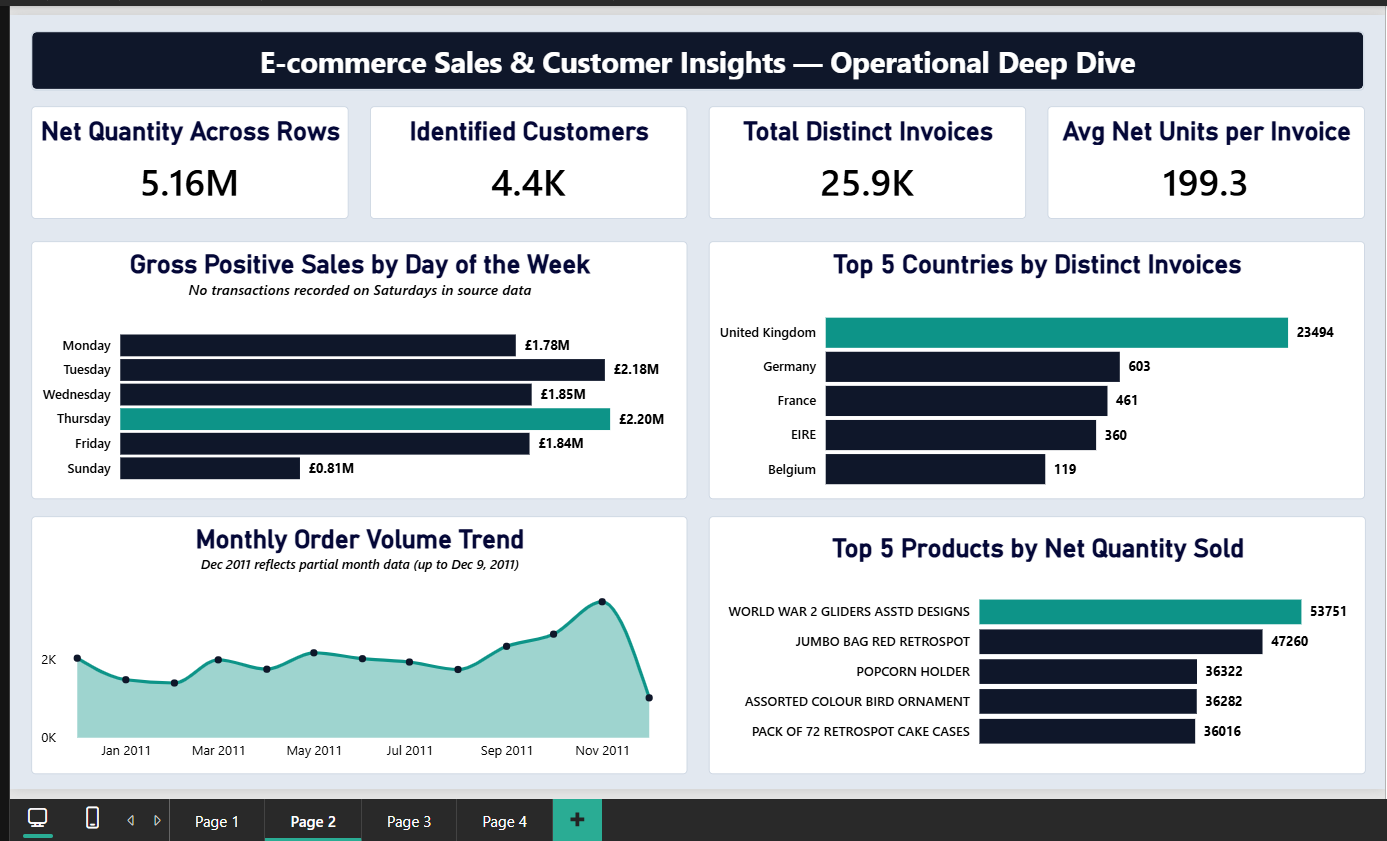

What the dashboard file says about the page in this screenshot:
{"tool":"powerbi","page":{"name":"Page 2","canvas":[1280,720],"ordinal":1},"visuals":[{"type":"cardVisual","title":"Net Quantity Across Rows","fields":{"Data":["Sum(online_retail_mysql.Quantity)"]},"box":[20,85,295,105],"z":0},{"type":"cardVisual","title":"Identified Customers","fields":{"Data":["Count(online_retail_mysql.CustomerID)"]},"box":[335,85,295,105],"z":1000},{"type":"cardVisual","title":"Total Distinct Invoices","fields":{"Data":["Count(online_retail_mysql.InvoiceNo)"]},"box":[650,85,295,105],"z":2000},{"type":"cardVisual","title":"Avg Net Units per Invoice","fields":{"Data":["_Measures.Avg Basket Size"]},"box":[965,85,295,105],"z":3000},{"type":"shape","title":"E-commerce Sales & Customer Insights — Executive Overview","box":[20.1,15,1240.2,55],"z":4000},{"type":"lineChart","title":"Monthly Order Volume Trend","fields":{"Category":["online_retail_mysql.InvoiceDate.Variation.Date Hierarchy.Year","online_retail_mysql.InvoiceDate.Variation.Date Hierarchy.Month"],"Y":["_Measures.Total Distinct Invoices"]},"box":[20,465.7,610,240],"z":5000},{"type":"clusteredBarChart","title":"Gross Positive Sales by Day of the Week","fields":{"Category":["online_retail_mysql.day_of_week"],"Y":["_Measures.Gross Positive Sales"]},"box":[20,210,610,240],"z":6000},{"type":"clusteredBarChart","title":"Top 5 Products by Net Quantity Sold","fields":{"Category":["online_retail_mysql.Description"],"Y":["Sum(online_retail_mysql.Quantity)"]},"box":[650,465.7,611.4,240],"z":7000},{"type":"clusteredBarChart","title":"Top 5 Countries by Distinct Invoices","fields":{"Category":["online_retail_mysql.Country"],"Y":["_Measures.Total Distinct Invoices"]},"box":[650,210,610,240],"z":8000}]}

Visuals, with their boxes on the page's 1280x720 design canvas (x1, y1, x2, y2). These are canvas units, not pixel positions in the 1387x841 screenshot, which may show the page scaled, cropped or inside an application window:
"Net Quantity Across Rows" cardVisual: bbox=[20, 85, 315, 190]
"Identified Customers" cardVisual: bbox=[335, 85, 630, 190]
"Total Distinct Invoices" cardVisual: bbox=[650, 85, 945, 190]
"Avg Net Units per Invoice" cardVisual: bbox=[965, 85, 1260, 190]
"E-commerce Sales & Customer Insights — Executive Overview" shape: bbox=[20, 15, 1260, 70]
"Monthly Order Volume Trend" lineChart: bbox=[20, 466, 630, 706]
"Gross Positive Sales by Day of the Week" clusteredBarChart: bbox=[20, 210, 630, 450]
"Top 5 Products by Net Quantity Sold" clusteredBarChart: bbox=[650, 466, 1261, 706]
"Top 5 Countries by Distinct Invoices" clusteredBarChart: bbox=[650, 210, 1260, 450]
